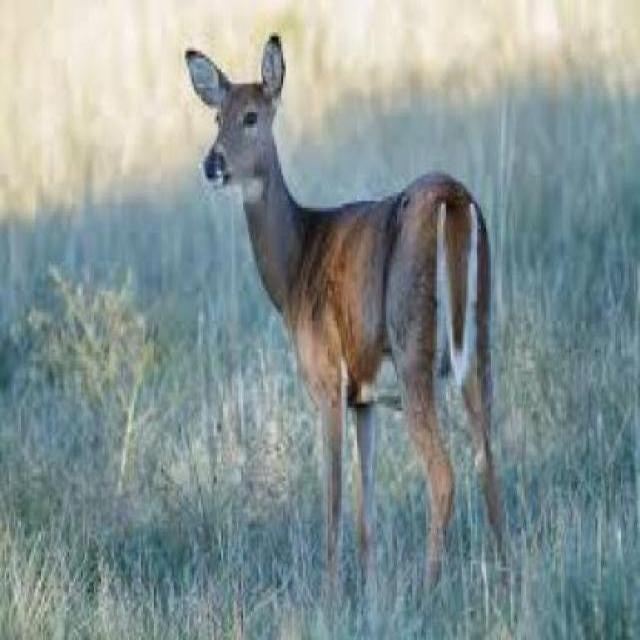deer: (180, 24, 520, 581)
